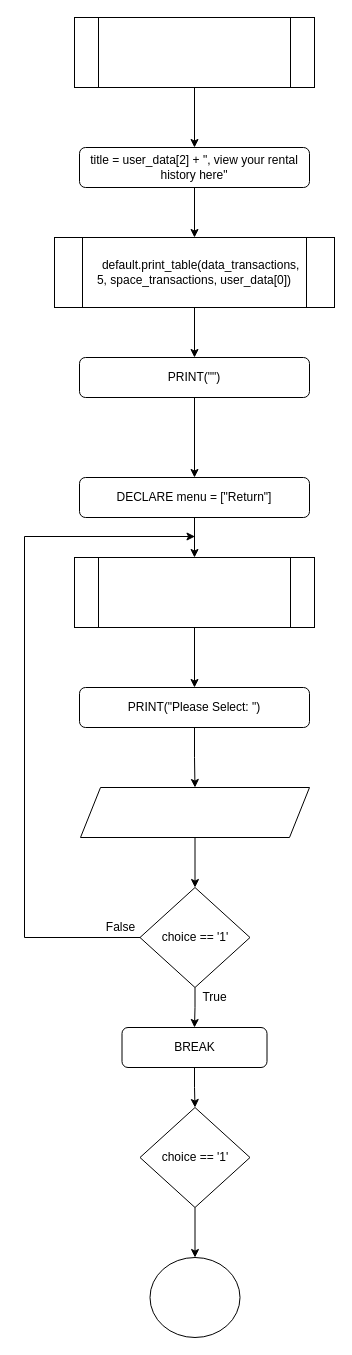
Image size: 352x1355. Some labels were removed from this diagram. Each missing label, with the centre of its shape:
default.general_menu(menu): point (194, 592)
FUNCTION view_indhistory (user_data, data_transactions, space_transactions): point (194, 52)
READ choice: point (195, 812)
RETURN: point (194, 1297)
